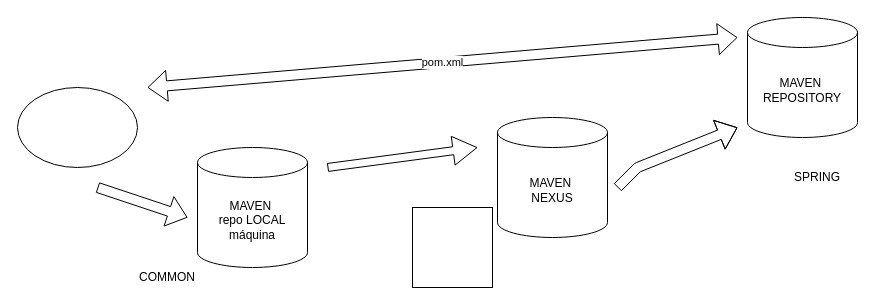
This 875x305 diagram has some shape labels left out. Here are the shapes that lost their labels. From the top down, the centre of each, then its label:
At point 77,127: "MI MICROSERVICO MI APP".
At point 452,247: "PROYECTOS DE INDRA".
